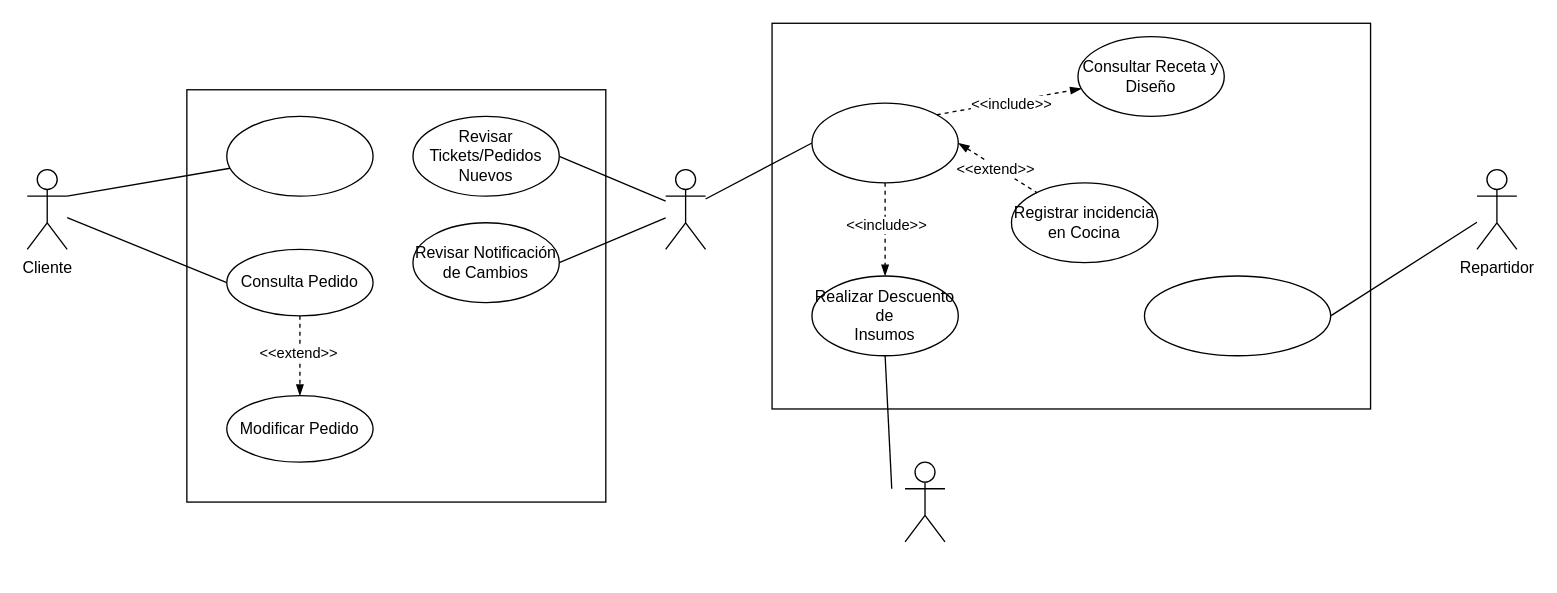
Image size: 1557x593. Some labels were removed from this diagram. Each missing label, with the box of its shape:
Actualizar Estado de Produccion: (811, 102, 958, 183)
Cocinero: (664, 168, 706, 249)
Consultar Pedidos Listos para Despacho: (1143, 275, 1331, 356)
Crea Pedido Personalizado: (225, 115, 373, 196)
Sistema de Stock: (904, 461, 945, 542)
